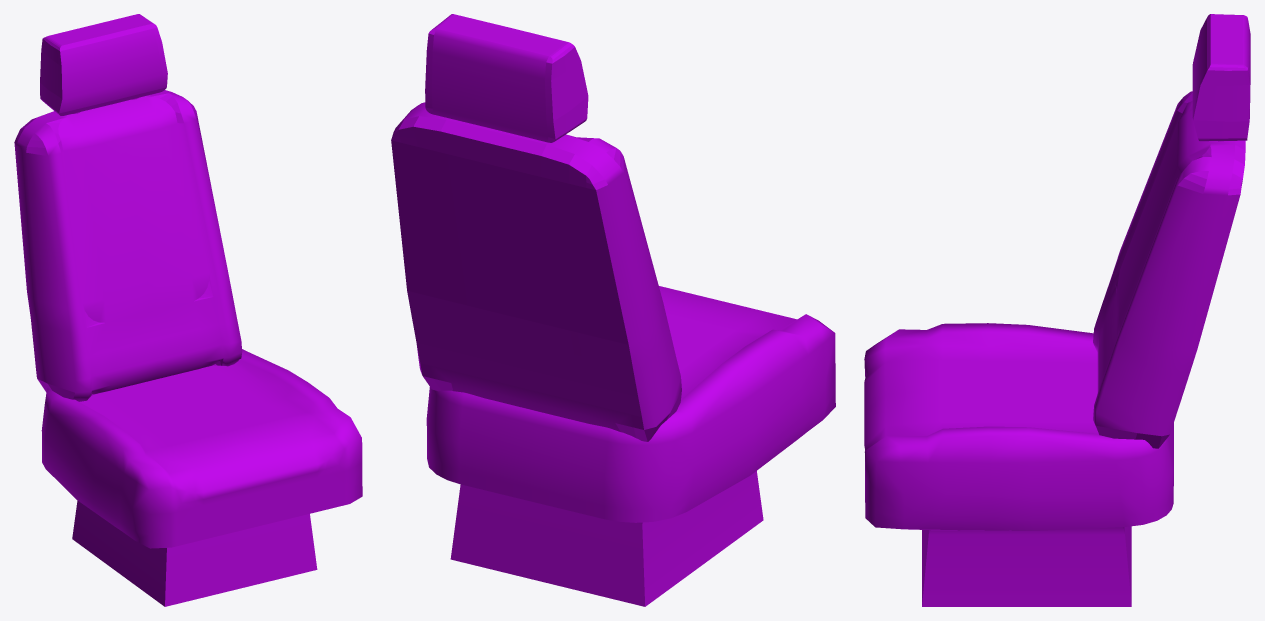
File: Car_Seat_01.fbx
3 renders of one model, left to right at view 1: azimuth 30°, elevation 25°; view 2: azimuth 150°, elevation 25°; view 3: azimuth 270°, elevation 25°, orthographic. The views are drawn at different scales.
Visible parts, largest first — view 1: Car_Seat_01; view 2: Car_Seat_01; view 3: Car_Seat_01.
Boxes of the visible parts, x1,y1,x2,y2 form: Car_Seat_01: (14, 14, 362, 606); Car_Seat_01: (391, 14, 835, 606); Car_Seat_01: (864, 14, 1250, 606).
Size of the model in its own units: 59.08 by 117 by 78.6.
